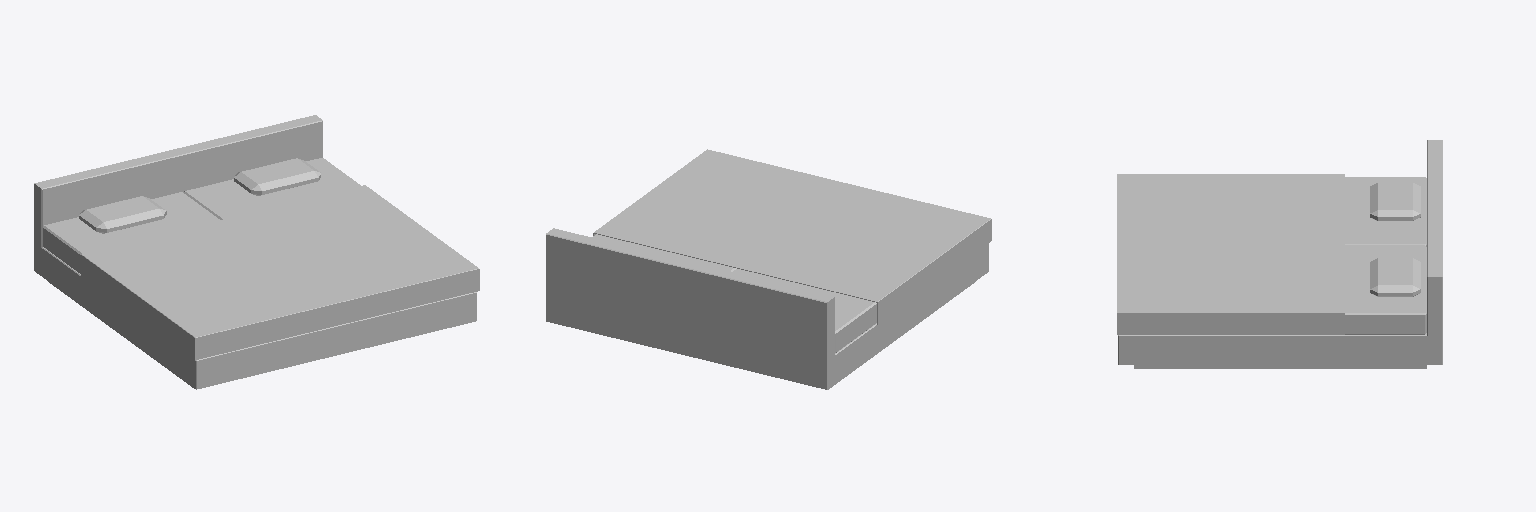
Rendered from bed-king.obj.
The picture shows the model from 3 angles: view 1: azimuth 30°, elevation 25°; view 2: azimuth 150°, elevation 25°; view 3: azimuth 270°, elevation 25°; orthographic projection.
Visible parts, largest first — view 1: sheet_Cube.002, bed_Cube, mattress.L_Cube.003, mattress.R_Cube.003, pillow.L_Cube.005, pillow.R_Cube.005; view 2: sheet_Cube.002, bed_Cube, mattress.L_Cube.003, mattress.R_Cube.003; view 3: sheet_Cube.002, bed_Cube, mattress.R_Cube.003, mattress.L_Cube.003, pillow.R_Cube.005, pillow.L_Cube.005.
Boxes of the visible parts, <box> form: sheet_Cube.002: <box>81,185,479,359</box>; bed_Cube: <box>34,115,476,389</box>; mattress.L_Cube.003: <box>43,192,219,273</box>; mattress.R_Cube.003: <box>184,158,360,219</box>; pillow.L_Cube.005: <box>79,196,166,233</box>; pillow.R_Cube.005: <box>234,158,320,195</box>; sheet_Cube.002: <box>593,149,991,324</box>; bed_Cube: <box>546,228,988,389</box>; mattress.L_Cube.003: <box>733,269,876,352</box>; mattress.R_Cube.003: <box>592,234,736,271</box>; sheet_Cube.002: <box>1117,174,1344,334</box>; bed_Cube: <box>1118,140,1442,368</box>; mattress.R_Cube.003: <box>1345,245,1426,334</box>; mattress.L_Cube.003: <box>1345,177,1426,246</box>; pillow.R_Cube.005: <box>1370,258,1420,296</box>; pillow.L_Cube.005: <box>1370,182,1420,220</box>.
Bounding box in the file's own units: 2.02 × 0.645 × 2.01.